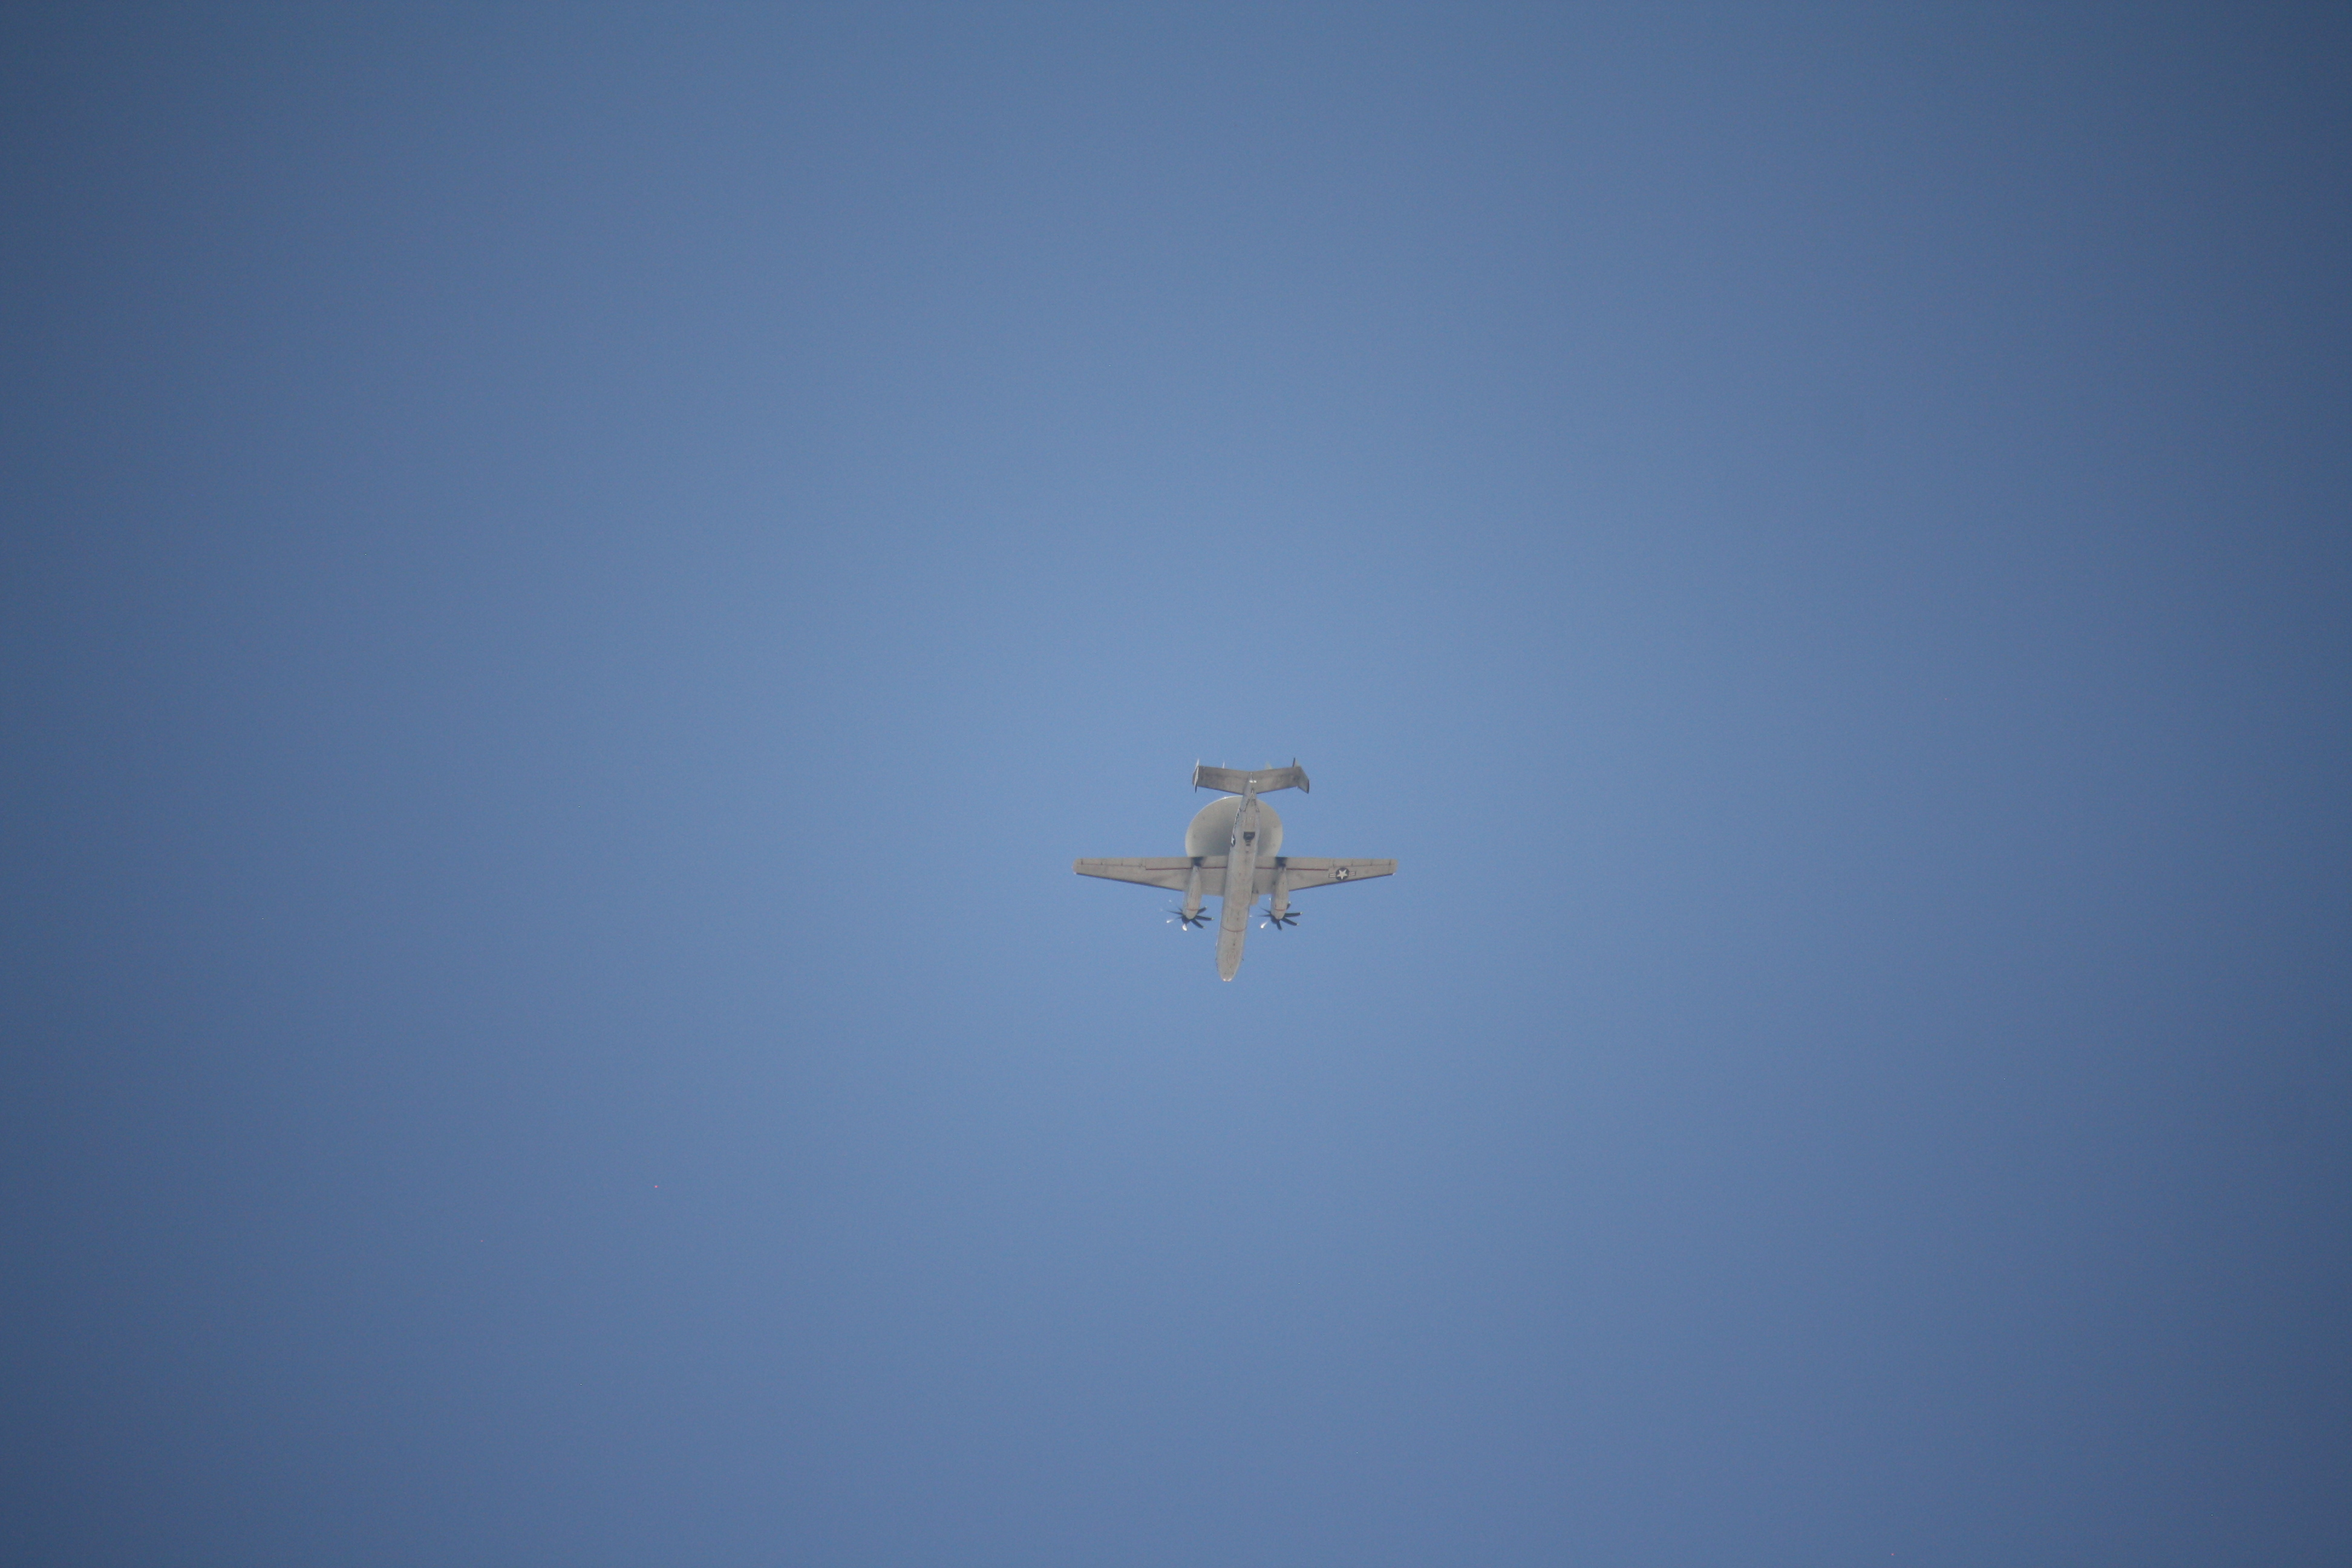airplane: (1071, 756, 1400, 982)
